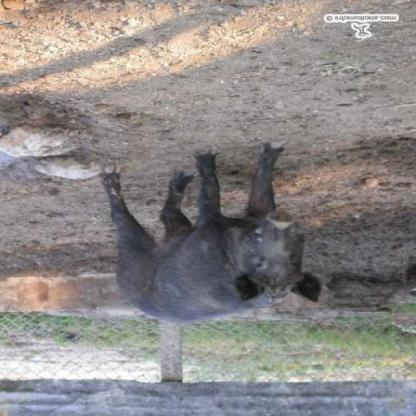boar: (83, 112, 332, 326)
